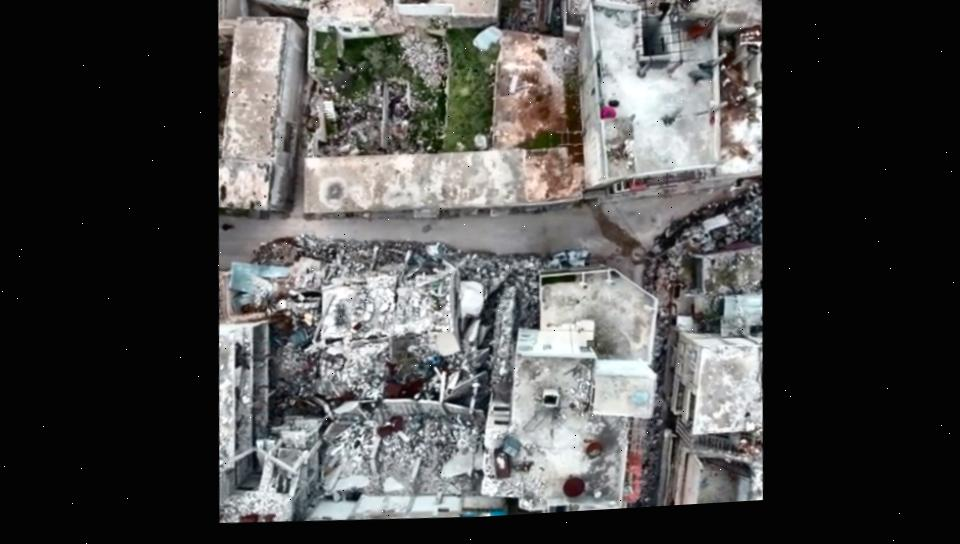kapali: (230, 202, 600, 279), (605, 175, 762, 261)
